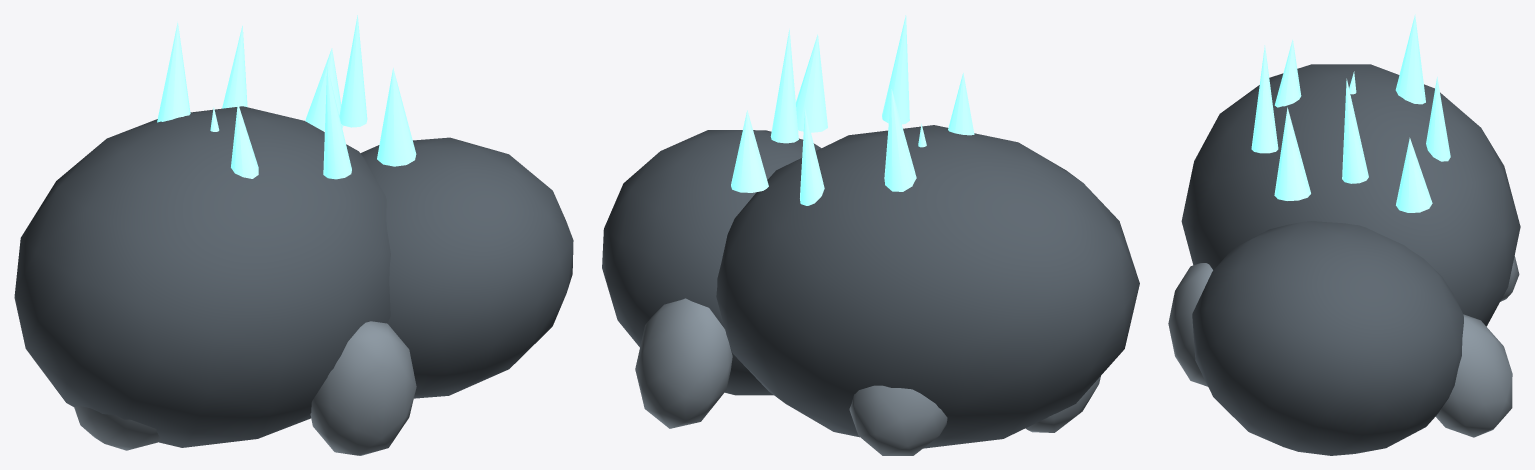
The model's file is commit-ridge-lod0.glb.
3 renders of one model, left to right at view 1: azimuth 30°, elevation 25°; view 2: azimuth 150°, elevation 25°; view 3: azimuth 270°, elevation 25°, orthographic. The views are drawn at different scales.
Parts seen in each view (by area): view 1: MESH_commit_ridge_rock, MESH_commit_ridge_rockLight, MESH_commit_ridge_crystal; view 2: MESH_commit_ridge_rock, MESH_commit_ridge_rockLight, MESH_commit_ridge_crystal; view 3: MESH_commit_ridge_rock, MESH_commit_ridge_crystal, MESH_commit_ridge_rockLight.
Boxes of the visible parts, x1,y1,x2,y2 form: MESH_commit_ridge_rock: (14, 106, 573, 447); MESH_commit_ridge_rockLight: (74, 321, 416, 455); MESH_commit_ridge_crystal: (157, 15, 416, 179); MESH_commit_ridge_rock: (602, 125, 1139, 448); MESH_commit_ridge_rockLight: (635, 298, 1100, 455); MESH_commit_ridge_crystal: (731, 15, 974, 205); MESH_commit_ridge_rock: (1181, 64, 1520, 455); MESH_commit_ridge_crystal: (1251, 14, 1450, 212); MESH_commit_ridge_rockLight: (1168, 256, 1519, 437).
Size of the model in its own units: 8.86 by 6.2 by 5.73.
